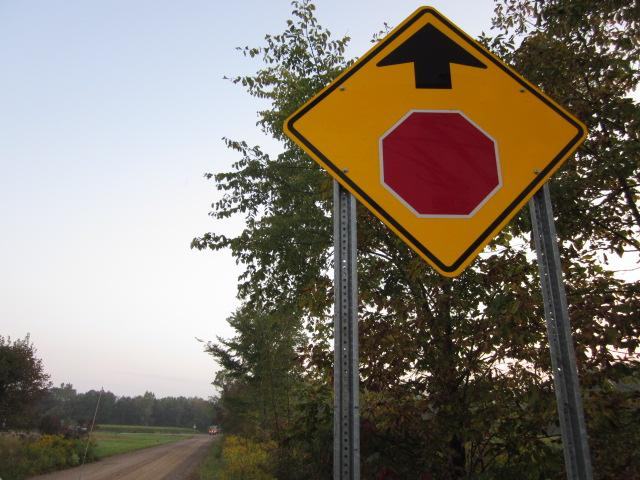stop: (377, 110, 506, 219)
warning: (281, 7, 587, 277)
